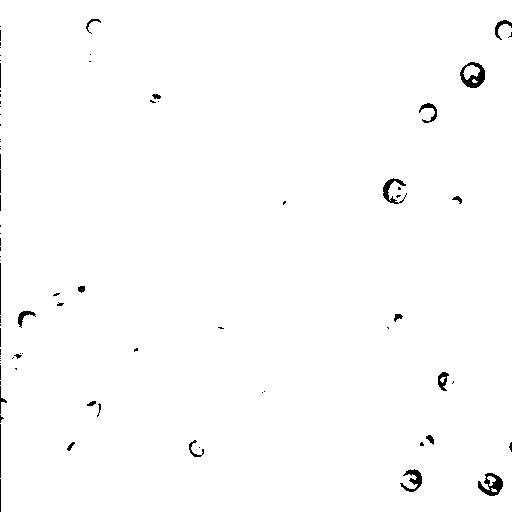micro-algae: (5, 257, 63, 309), (95, 34, 143, 88), (297, 7, 343, 52), (380, 16, 416, 56), (475, 317, 511, 353), (380, 303, 416, 337), (101, 414, 135, 449), (162, 173, 195, 205), (272, 189, 301, 221), (255, 387, 287, 414), (379, 179, 409, 204), (477, 469, 503, 496), (460, 61, 486, 87), (123, 338, 149, 363), (398, 468, 424, 493), (9, 351, 31, 379), (67, 275, 92, 299), (81, 45, 104, 69), (15, 310, 38, 333), (79, 398, 103, 419), (66, 441, 84, 466), (417, 103, 437, 123), (437, 372, 456, 392), (50, 292, 73, 308), (495, 19, 511, 41), (497, 290, 511, 315), (189, 439, 205, 458), (1, 395, 13, 420), (86, 19, 103, 36), (419, 433, 435, 449), (448, 195, 464, 209)
